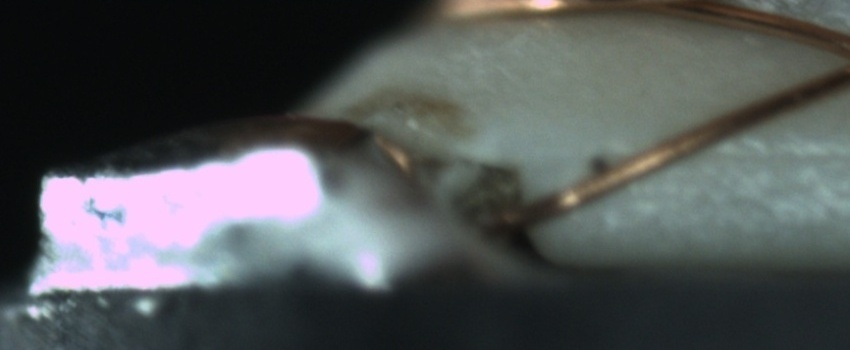DL: (687, 121, 846, 187)
